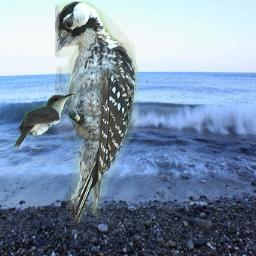Cuckoo: (13, 93, 75, 149)
Woodpecker: (55, 1, 139, 223)
